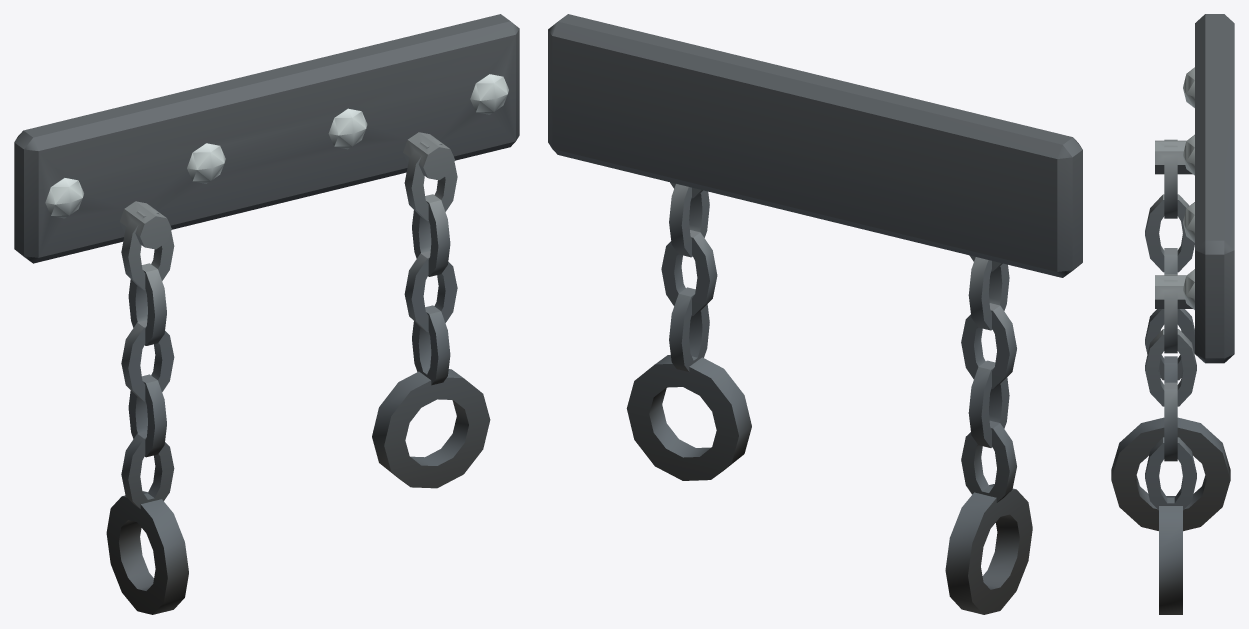
Rendered from shackles.glb.
The picture shows the model from 3 angles, left to right: view 1: azimuth 30°, elevation 25°; view 2: azimuth 150°, elevation 25°; view 3: azimuth 270°, elevation 25°; orthographic projection. The views are drawn at different scales.
Visible parts, largest first — view 1: Item; view 2: Item; view 3: Item.
Boxes of the visible parts, left/top/right/bottom form: Item: left=14, top=14, right=519, bottom=614; Item: left=548, top=14, right=1082, bottom=614; Item: left=1111, top=14, right=1234, bottom=614.
Size of the model in its own units: 1.4 by 1.3 by 0.31.
2 materials, 2 textured.
